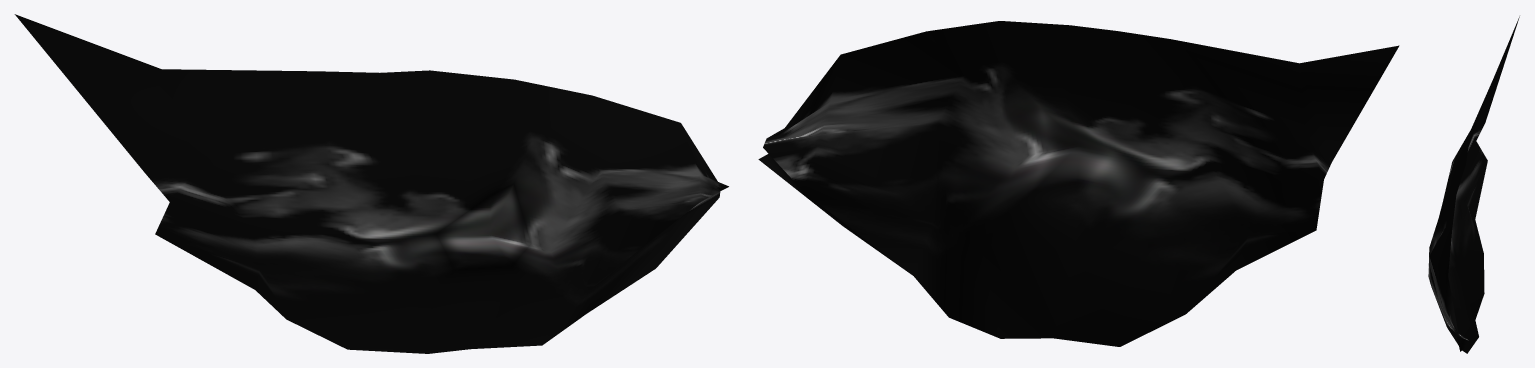
Rendered from fx_chiyou_mesh7.FBX.
3 renders of one model, left to right at view 1: azimuth 30°, elevation 25°; view 2: azimuth 150°, elevation 25°; view 3: azimuth 270°, elevation 25°, orthographic. The views are drawn at different scales.
Visible parts, largest first — view 1: Plane001; view 2: Plane001; view 3: Plane001.
Boxes of the visible parts, x1,y1,x2,y2 form: Plane001: (14, 14, 728, 353); Plane001: (758, 21, 1399, 346); Plane001: (1428, 16, 1519, 353).
Size of the model in its own units: 73.41 by 43.86 by 16.88.
1 material, 1 textured.
